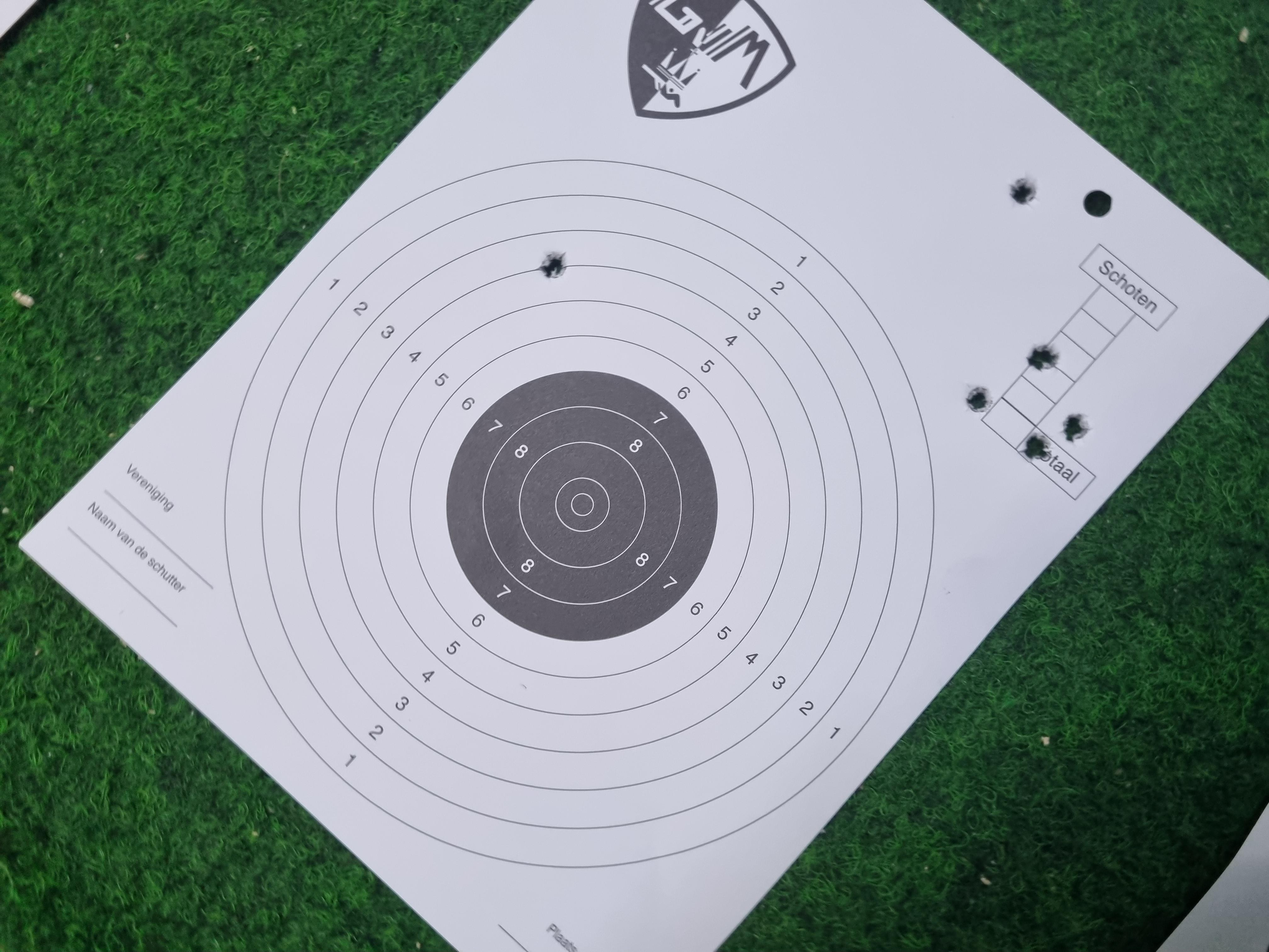hole: (774, 770, 810, 795), (997, 755, 1034, 779), (897, 404, 935, 425), (681, 796, 717, 818), (654, 767, 692, 787), (718, 724, 754, 745)
